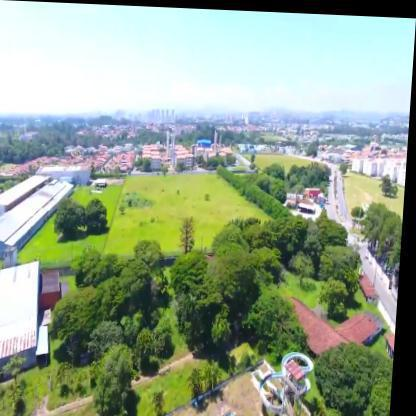agua: (217, 404, 244, 415)
